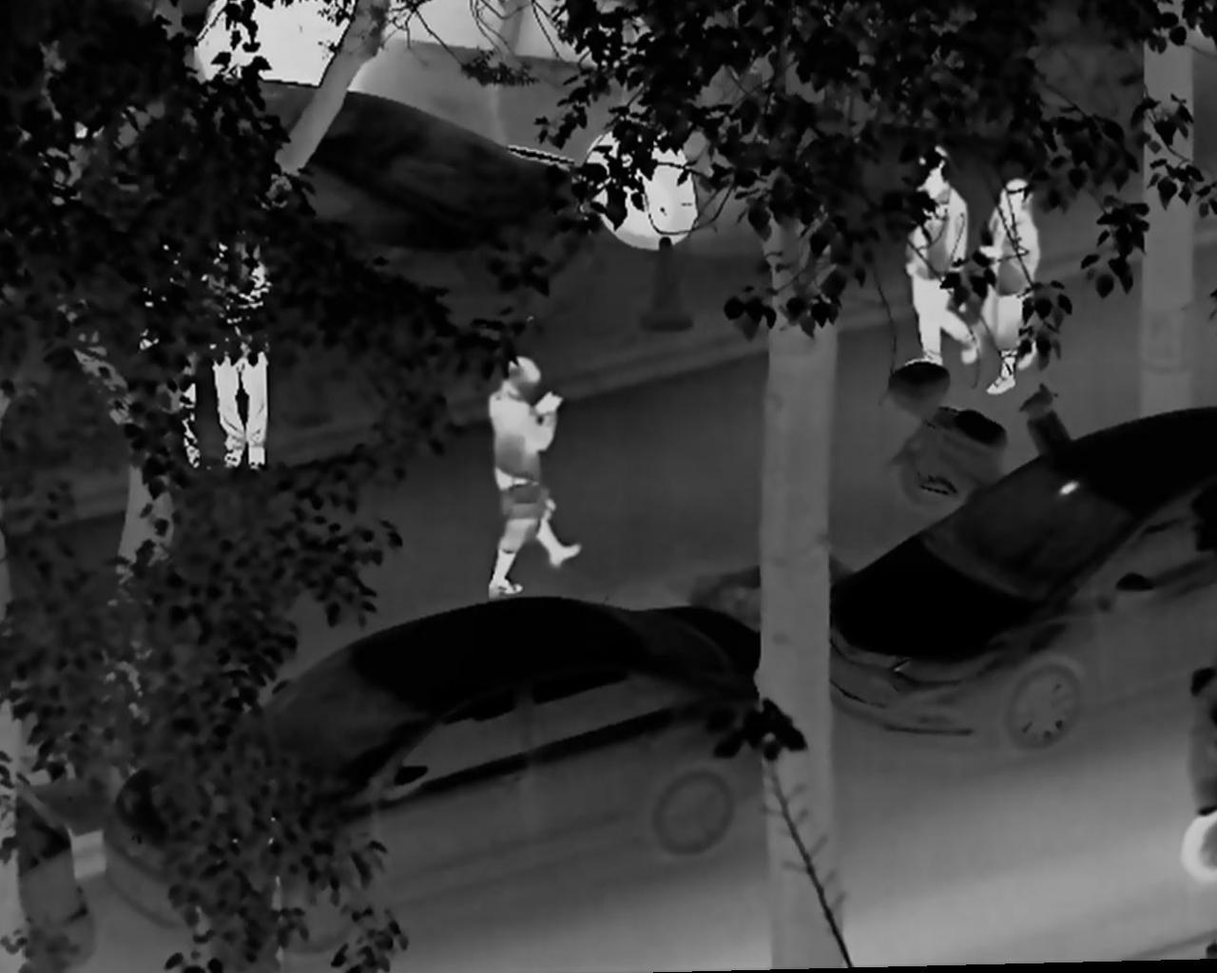person: (471, 348, 584, 601), (208, 213, 291, 468), (900, 141, 985, 378), (974, 166, 1053, 400)
